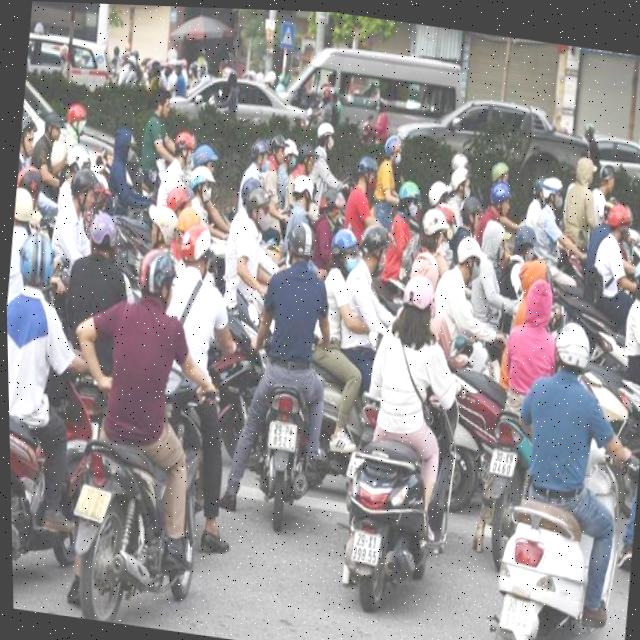motorcycle: (59, 398, 193, 631), (331, 425, 446, 629), (482, 472, 611, 640), (245, 363, 320, 534), (9, 385, 64, 590), (466, 405, 530, 569)
plate: (494, 585, 542, 640), (70, 478, 116, 526), (344, 522, 385, 570), (263, 412, 303, 456), (485, 443, 519, 481)
